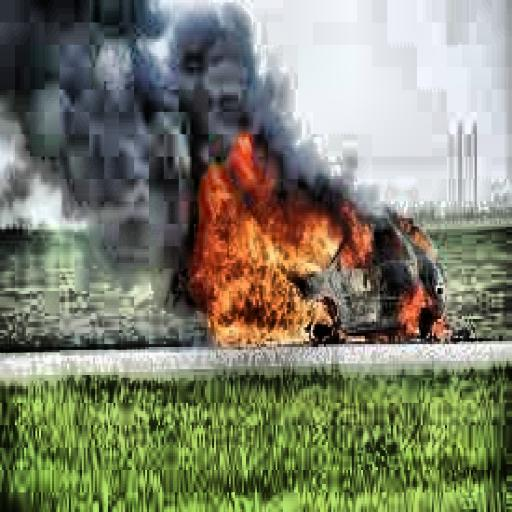fire: (190, 134, 450, 347)
